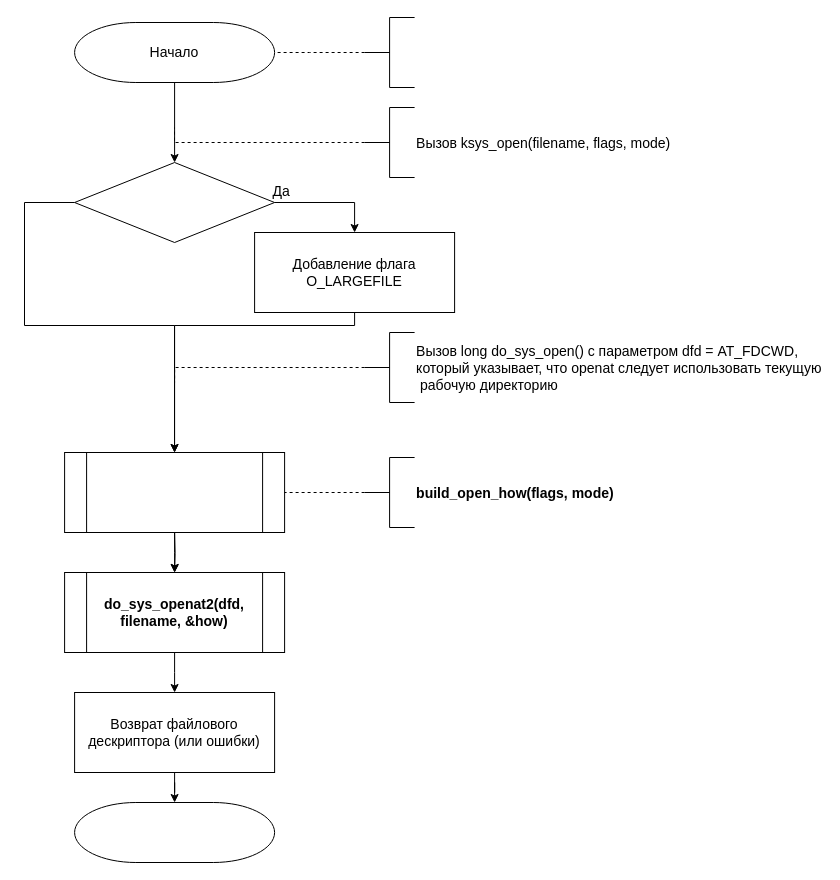
The diagram is 840 pixels wide and 880 high, and some of its shapes have lost their labels. The box of each missing label's shape, as (x1, y1, x2, y2) in pixels:
long open(const char __user *filename, int flags, umode_t mode): (364, 16, 415, 88)
Конец: (74, 802, 275, 862)
Система 64x разрядная?: (74, 162, 275, 242)
Создание и инициализация структуры struct open_how how: (64, 452, 285, 532)
